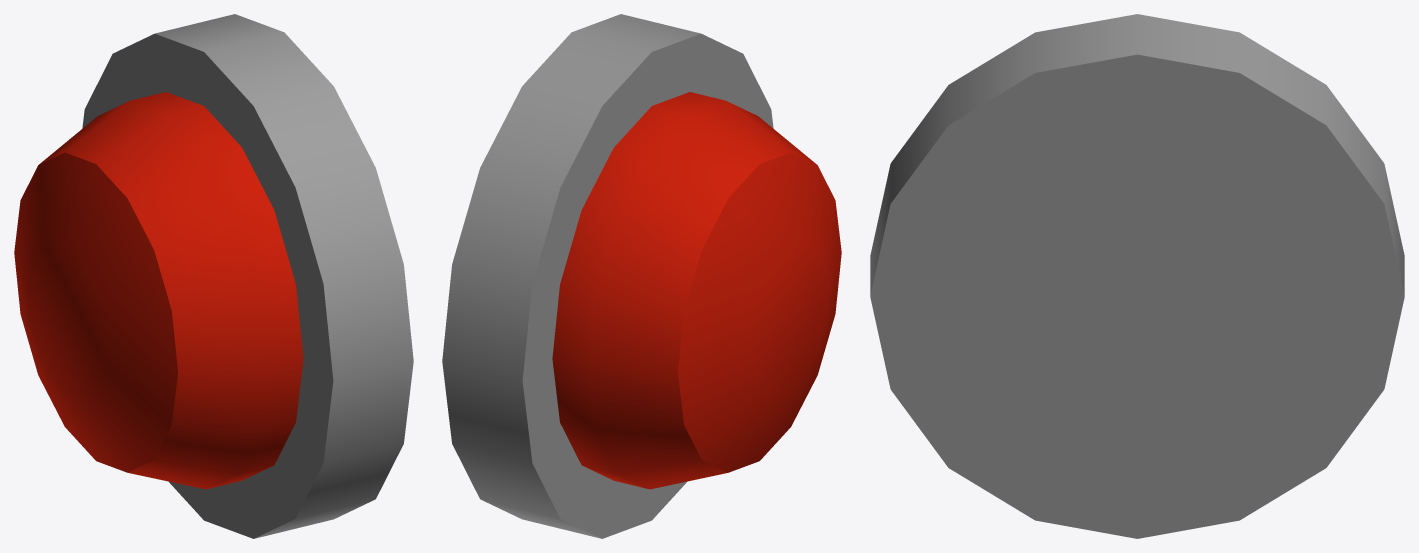
File: button.fbx
The picture shows the model from 3 angles, left to right: view 1: azimuth 30°, elevation 25°; view 2: azimuth 150°, elevation 25°; view 3: azimuth 270°, elevation 25°; orthographic projection. The views are drawn at different scales.
Parts seen in each view (by area): view 1: Circle.001; view 2: Circle.001; view 3: Circle.001.
Part boxes in pixels (bbox=[...]): Circle.001: bbox=[14, 14, 413, 538]; Circle.001: bbox=[442, 14, 841, 538]; Circle.001: bbox=[870, 14, 1404, 538].
Bounding box in the file's own units: 4.11 × 8.44 × 8.44.
